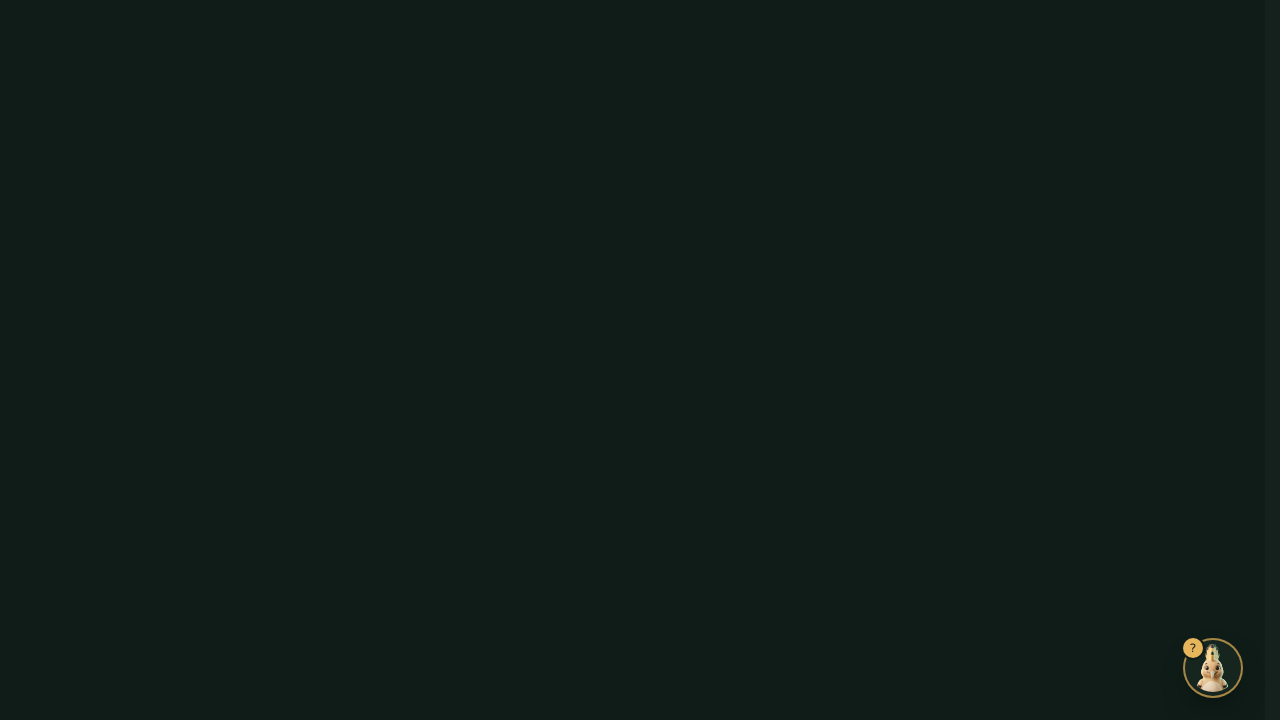
SupportChat — the launcher and the panel › a chip asks its question: the typing dots, then the answer in the log; the chips step aside
Later steps or results of the test are not shown.
Click the button named "שאלות ותמיכה" at (1213, 668), box [1185,640,1241,696]
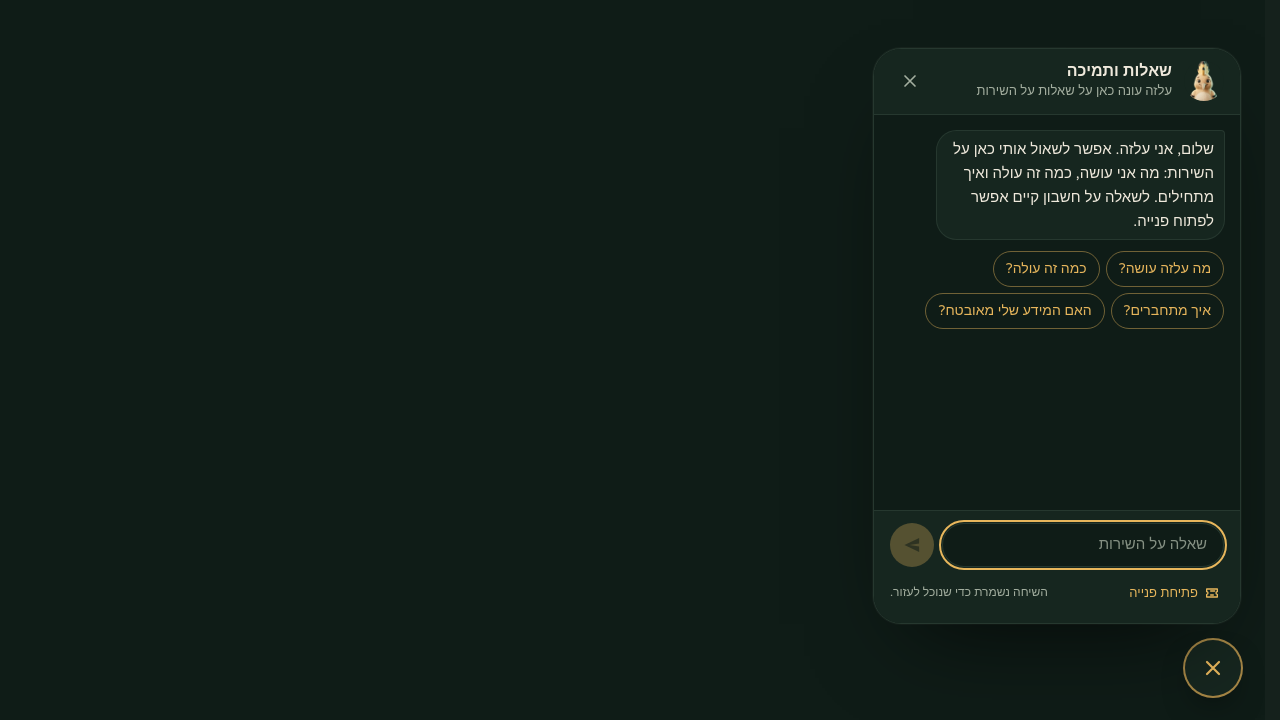
Click the button "כמה זה עולה?" at (1046, 269), box [993,251,1100,287]
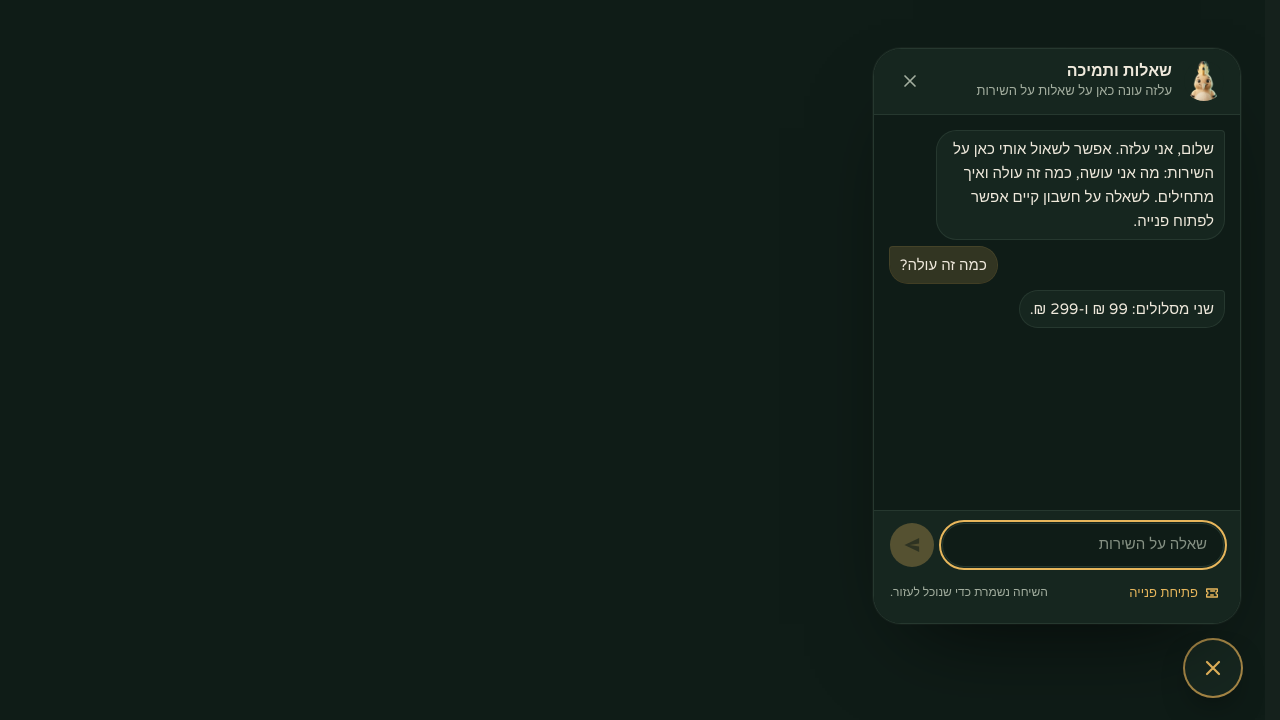
Check: the text "השיחה נשמרת כדי שנוכל לעזור." is shown, box [890,583,1048,603]
Check: the text "כמה זה עולה?" is shown, box [890,247,997,283]
Check: the text "שני מסלולים: 99 ₪ ו-299 ₪." is shown, box [1020,291,1224,327]
